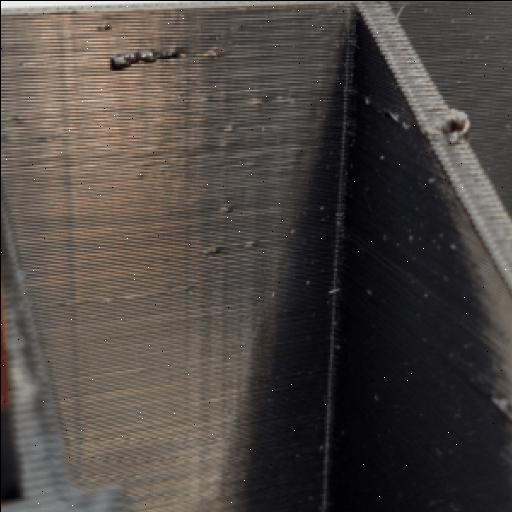blobs: (88, 20, 206, 82), (199, 196, 269, 266), (432, 96, 475, 155)
